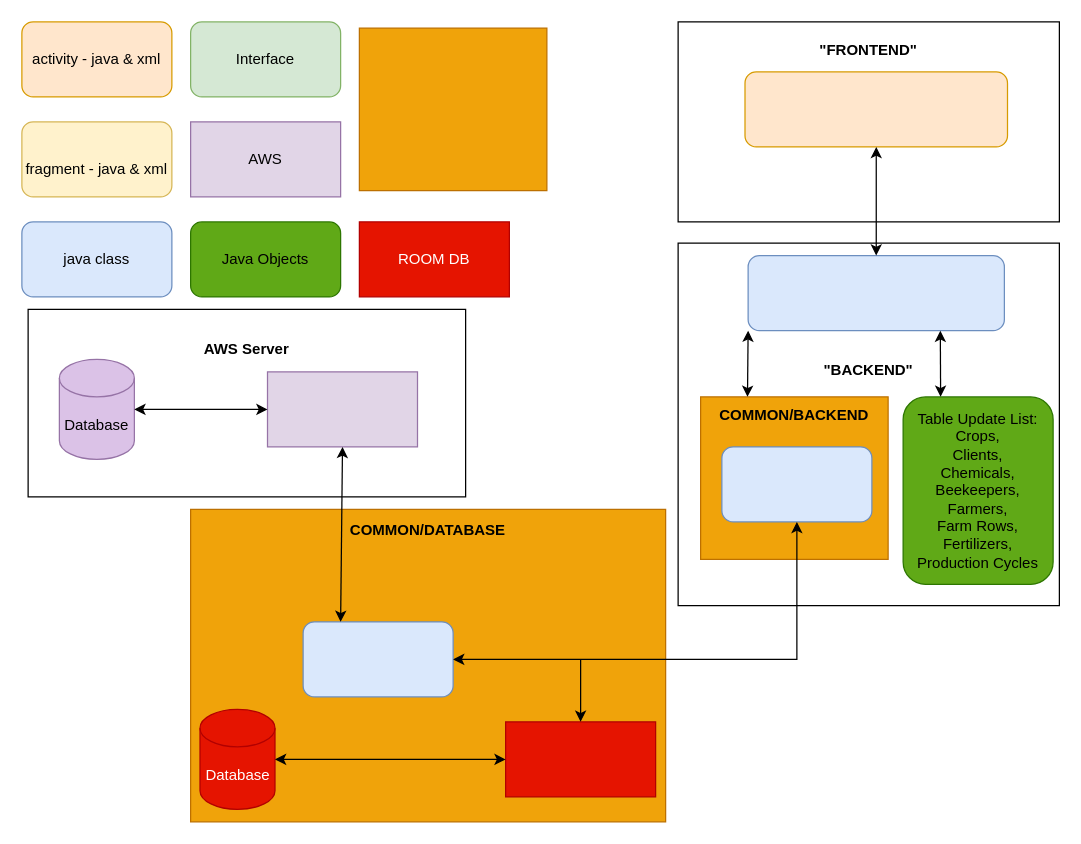
The diagram is 1081 pixels wide and 844 high, and some of its shapes have lost their labels. Each missing label, with the centre of its shape:
DAOs: point (580, 759)
Outside Package: point (452, 109)
PHPs: point (342, 409)
RWM_Repository: point (796, 484)
Server Connects: point (377, 659)
VisaoGlobal_Activity: point (876, 109)
VisaoGlobal_ViewModel: point (875, 292)
